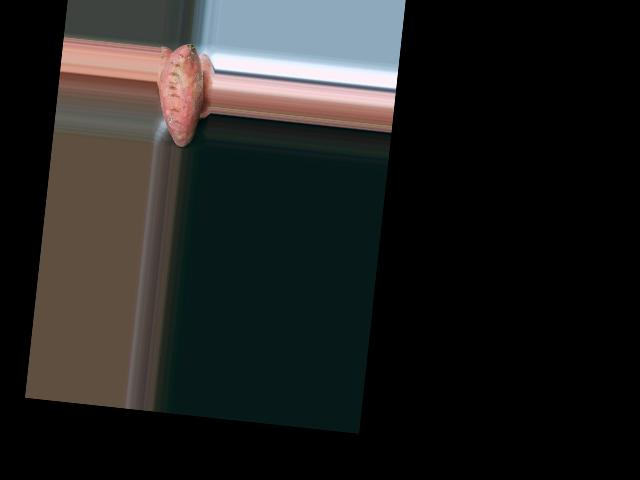sweet_potato: (156, 41, 203, 147)
